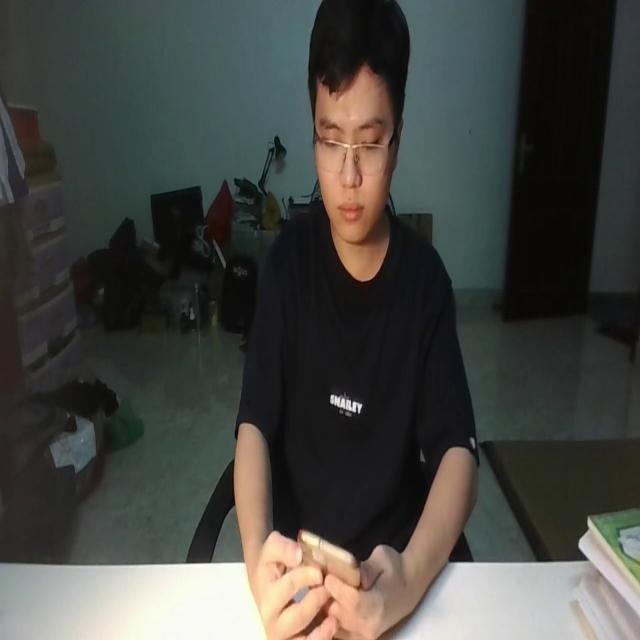phone: (300, 524, 364, 590)
student: (229, 0, 476, 640)
